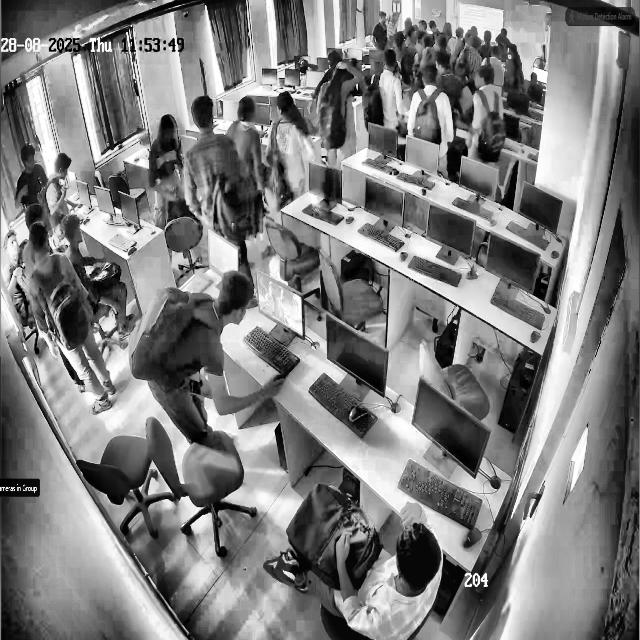Focus: (181, 255, 266, 342), (50, 151, 86, 197), (234, 87, 257, 128), (63, 216, 86, 248), (19, 150, 39, 174), (376, 5, 390, 37)
Not Focus: (388, 518, 467, 636), (189, 74, 222, 148), (276, 94, 310, 139), (472, 62, 506, 107), (416, 60, 444, 104), (162, 104, 181, 157), (3, 225, 25, 268), (27, 232, 54, 262)
